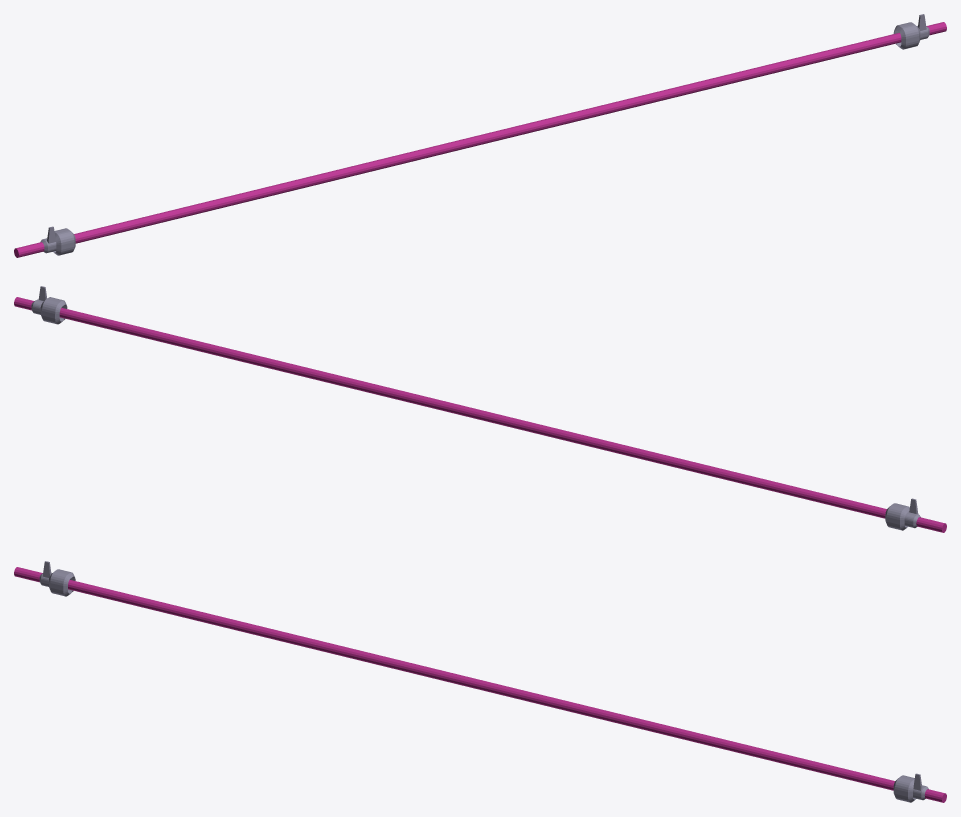
The model's file is SM_neon_facade.fbx.
3 renders of one model, top to bottom at view 1: azimuth 30°, elevation 25°; view 2: azimuth 150°, elevation 25°; view 3: azimuth 330°, elevation 25°, orthographic.
Visible parts, largest first — view 1: NEON FACADE square; view 2: NEON FACADE square; view 3: NEON FACADE square.
Part boxes in pixels (left/top/right/bottom): NEON FACADE square: left=14, top=14, right=946, bottom=257; NEON FACADE square: left=14, top=286, right=946, bottom=532; NEON FACADE square: left=14, top=561, right=946, bottom=802.
Bounding box in the file's own units: 990 × 30.55 × 20.29.
